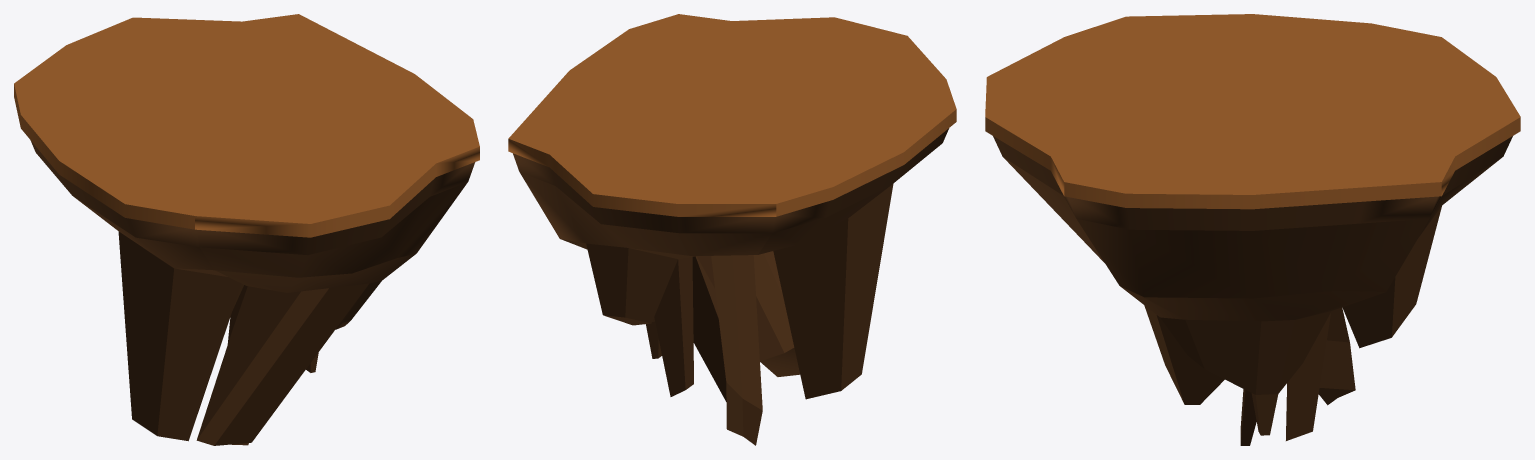
The model's file is Grande_ile_3D.fbx.
The picture shows the model from 3 angles, left to right: view 1: azimuth 30°, elevation 25°; view 2: azimuth 150°, elevation 25°; view 3: azimuth 270°, elevation 25°; orthographic projection. The views are drawn at different scales.
Parts seen in each view (by area): view 1: Grande_Ile; view 2: Grande_Ile; view 3: Grande_Ile.
Boxes of the visible parts, bbox=[...] form: Grande_Ile: bbox=[14, 14, 479, 445]; Grande_Ile: bbox=[508, 14, 956, 445]; Grande_Ile: bbox=[985, 14, 1520, 445].
Size of the model in its own units: 2722 by 2375 by 3404.
